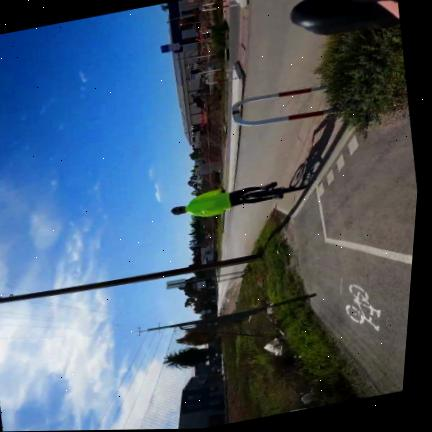Bike_Lane: (290, 114, 417, 395)
